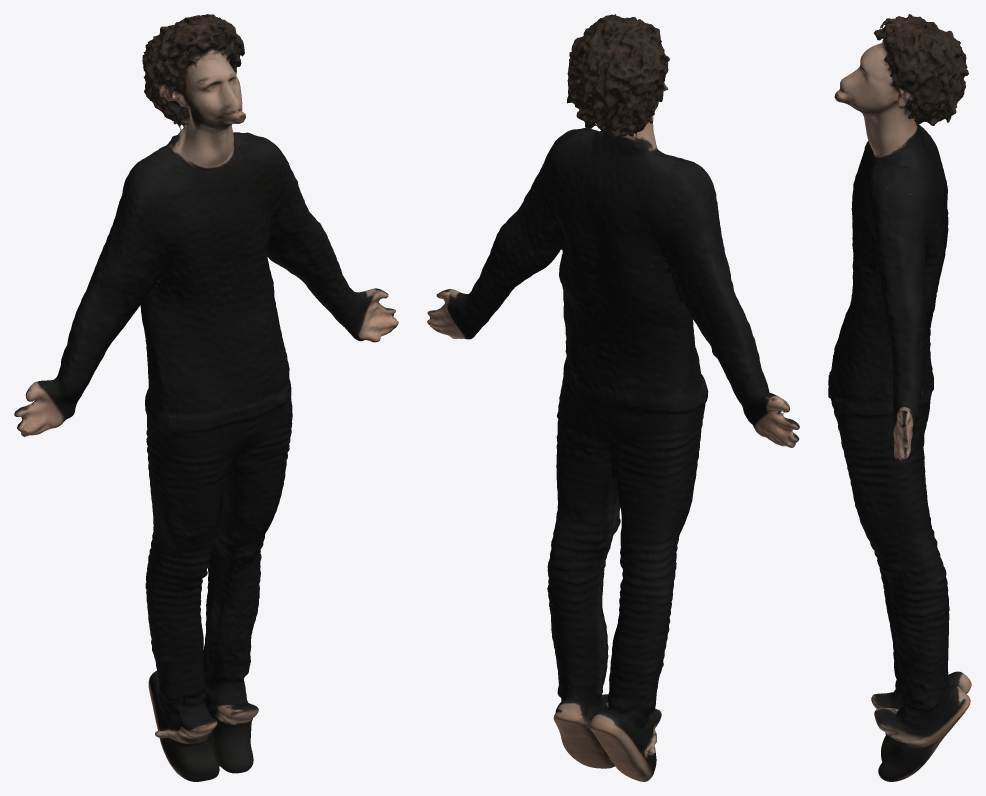
The model's file is redd-figure.glb.
3 renders of one model, left to right at view 1: azimuth 30°, elevation 25°; view 2: azimuth 150°, elevation 25°; view 3: azimuth 270°, elevation 25°, orthographic. The views are drawn at different scales.
Bounding box in the file's own units: 1.05 × 2 × 0.3503.
Materials: 1 (1 with a texture image).
